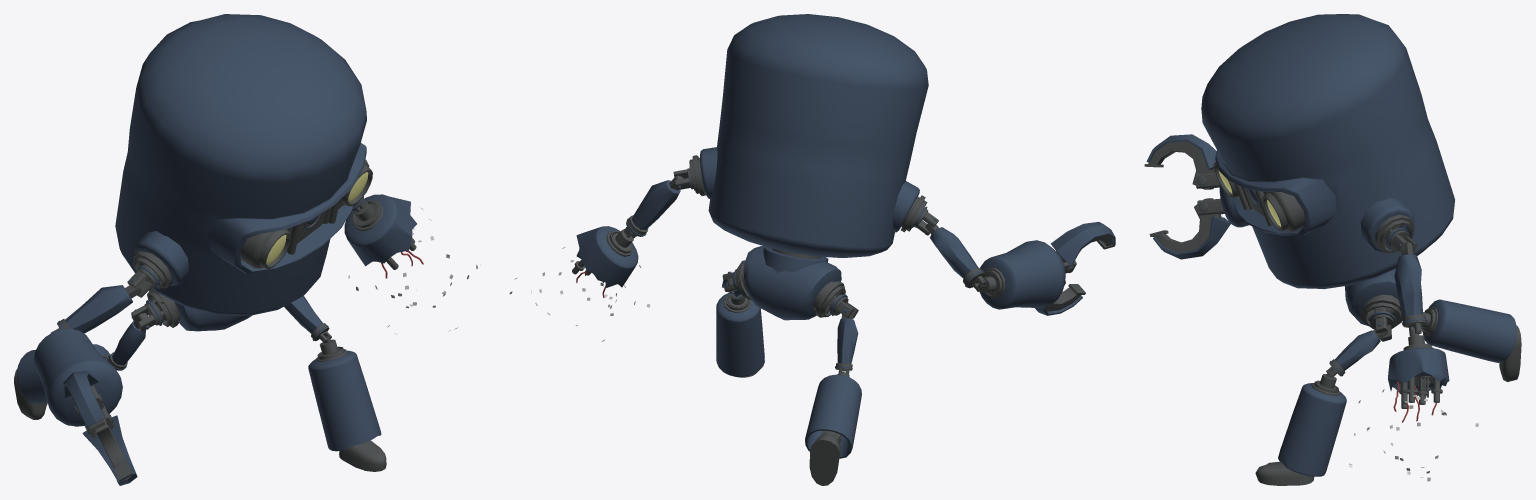
Rendered from ROBO_1.fbx.
3 renders of one model, left to right at view 1: azimuth 30°, elevation 25°; view 2: azimuth 150°, elevation 25°; view 3: azimuth 270°, elevation 25°, orthographic. The views are drawn at different scales.
Visible parts, largest first — view 1: polySurface320; view 2: polySurface320; view 3: polySurface320.
Part boxes in pixels (<box>): polySurface320: <box>14,14,480,485</box>; polySurface320: <box>509,14,1115,485</box>; polySurface320: <box>1144,14,1521,485</box>.
Bounding box in the file's own units: 31.41 × 23.9 × 20.24.
